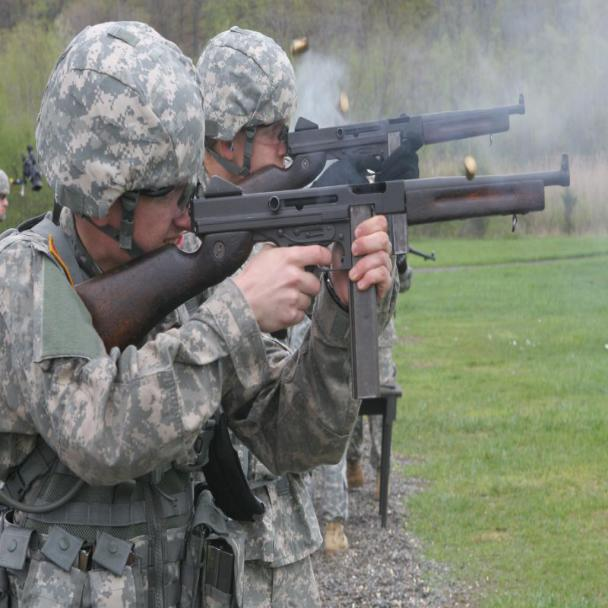Gun: (86, 152, 577, 336)
Hand: (237, 240, 335, 338), (349, 213, 398, 302)
